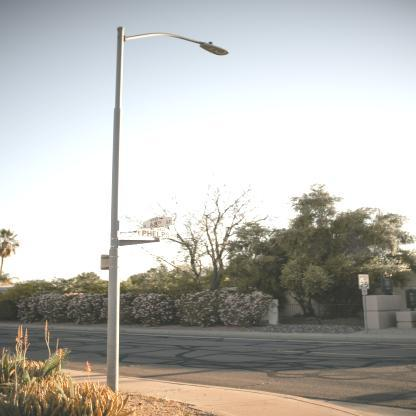light_pole: (107, 28, 229, 395)
